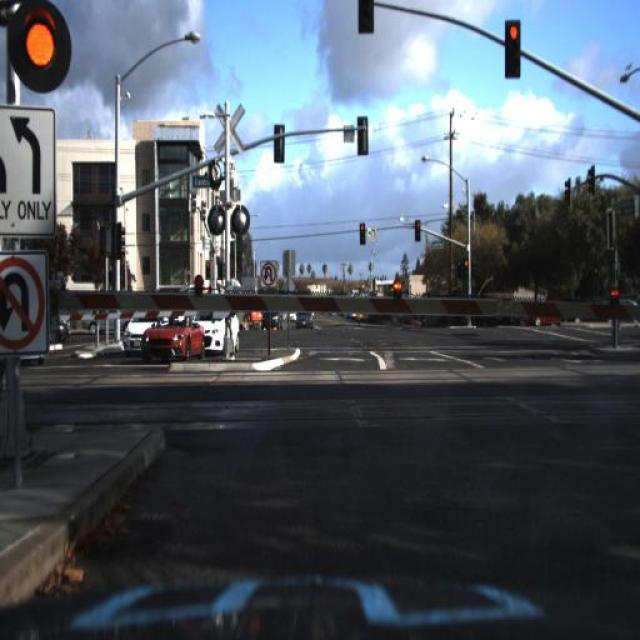car: (136, 311, 204, 361), (76, 302, 142, 342), (190, 302, 239, 354), (118, 304, 158, 354), (524, 297, 578, 332), (44, 323, 68, 358), (262, 301, 282, 333), (46, 310, 74, 330), (512, 304, 532, 331), (295, 305, 313, 329), (262, 310, 282, 328)
trafficLight: (608, 284, 623, 348)
trafficLight-Green: (496, 12, 529, 87), (358, 1, 377, 38), (356, 210, 372, 250)
trafficLight-RedLeft: (0, 0, 106, 101), (18, 3, 66, 83), (503, 21, 522, 78), (408, 213, 424, 246), (460, 248, 474, 278), (358, 219, 367, 247), (414, 216, 420, 242)
